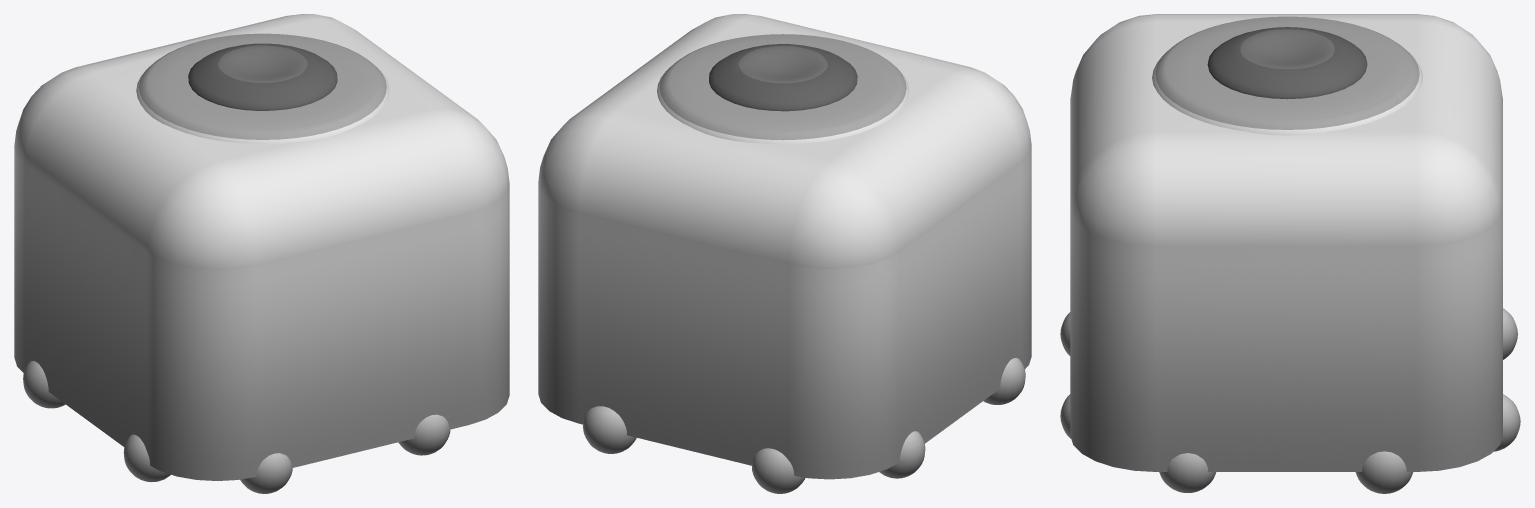
The picture shows the model from 3 angles, left to right: view 1: azimuth 30°, elevation 25°; view 2: azimuth 150°, elevation 25°; view 3: azimuth 270°, elevation 25°; orthographic projection. The views are drawn at different scales.
Visible parts, largest first — view 1: Cube1; view 2: Cube1; view 3: Cube1.
Part boxes in pixels (left/top/right/bottom): Cube1: left=14, top=14, right=509, bottom=493; Cube1: left=538, top=14, right=1031, bottom=493; Cube1: left=1060, top=14, right=1520, bottom=493.
Size of the model in its own units: 101 by 87.75 by 102.
1 material, 1 textured.
